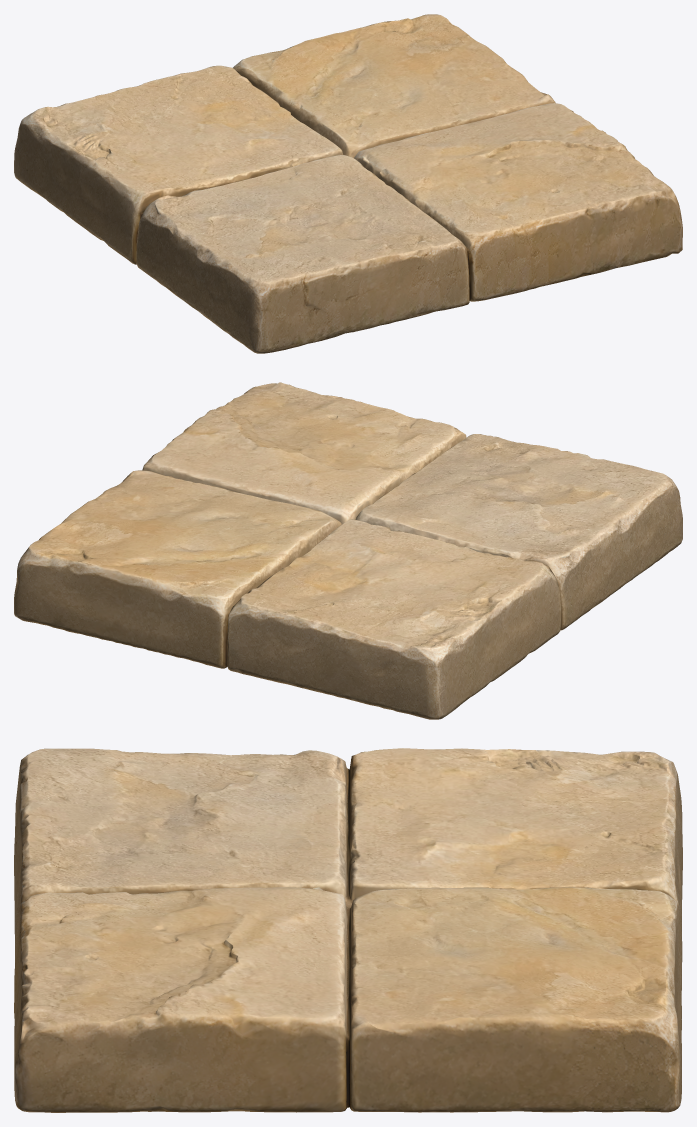
The model's file is tripo_convert_5d393e46-998b-464c-a8ef-3769f217500b.fbx.
3 views of the same model, one above another, from view 1: azimuth 30°, elevation 25°; view 2: azimuth 150°, elevation 25°; view 3: azimuth 270°, elevation 25° (orthographic). The views are drawn at different scales.
Parts seen in each view (by area): view 1: tripo_node_5d393e46; view 2: tripo_node_5d393e46; view 3: tripo_node_5d393e46.
Part boxes in pixels (<box>): tripo_node_5d393e46: <box>14,14,682,353</box>; tripo_node_5d393e46: <box>14,382,682,719</box>; tripo_node_5d393e46: <box>14,748,682,1112</box>.
Bounding box in the file's own units: 0.9794 × 0.1602 × 0.9792.
Materials: 1 (1 with a texture image).
